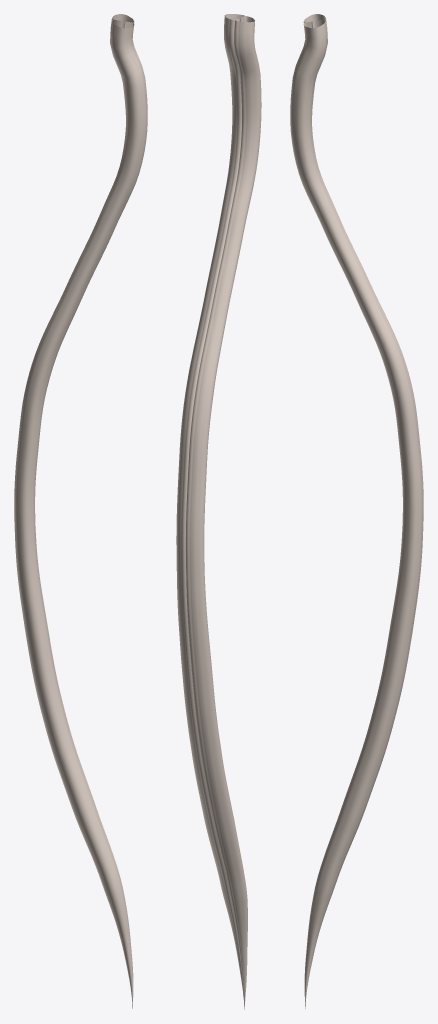
File: nervoso-white-matter-of-spinal-cord.glb
3 renders of one model, left to right at view 1: azimuth 90°, elevation 25°; view 2: azimuth 150°, elevation 25°; view 3: azimuth 270°, elevation 25°, orthographic.
Parts seen in each view (by area): view 1: White matter of spinal cord; view 2: White matter of spinal cord; view 3: White matter of spinal cord.
Boxes of the visible parts, x1,y1,x2,y2 form: White matter of spinal cord: (14,14,147,1008); White matter of spinal cord: (176,14,261,1009); White matter of spinal cord: (290,14,423,1008).
Bounding box in the file's own units: 0.0147 × 0.4905 × 0.0599.
